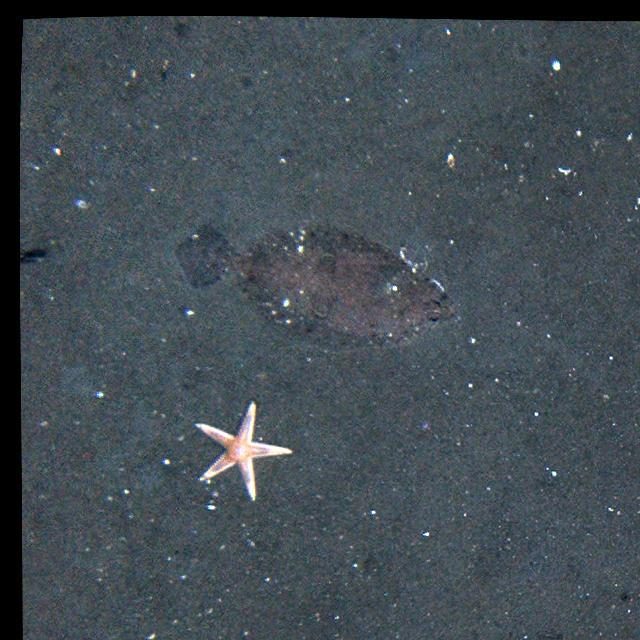flatfish: (173, 219, 463, 356)
